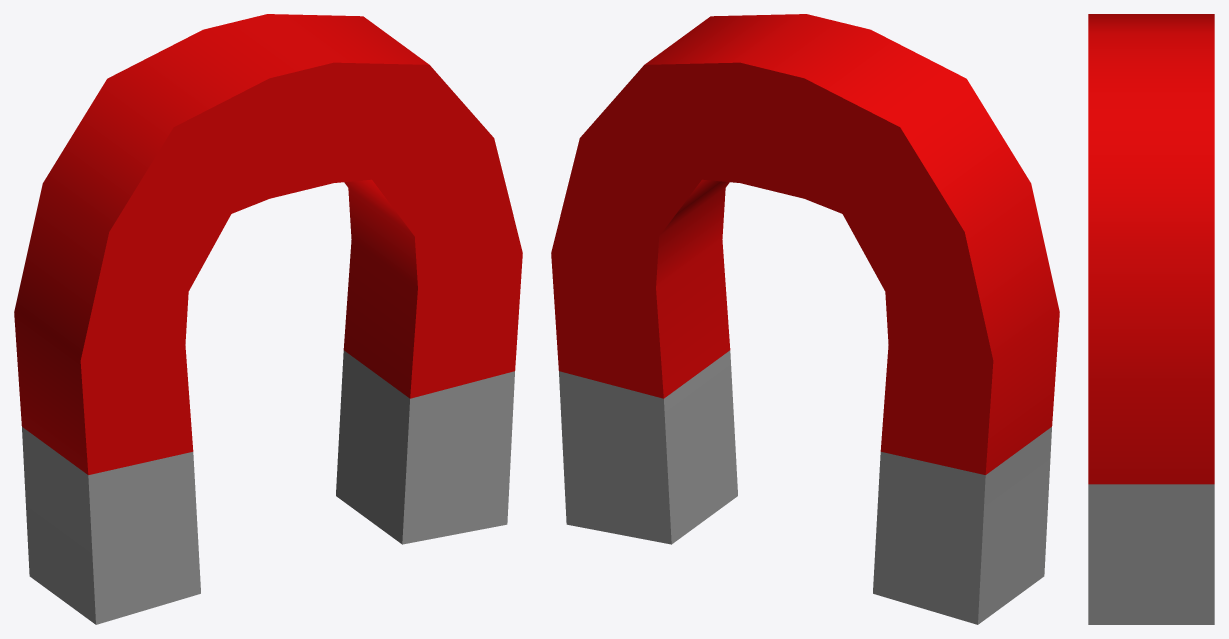
Rendered from magnet.fbx.
3 renders of one model, left to right at view 1: azimuth 30°, elevation 25°; view 2: azimuth 150°, elevation 25°; view 3: azimuth 270°, elevation 25°, orthographic. The views are drawn at different scales.
Visible parts, largest first — view 1: Cube.001; view 2: Cube.001; view 3: Cube.001.
Part boxes in pixels (x1,y1,x2,y2): Cube.001: (14,14,522,624); Cube.001: (551,14,1059,624); Cube.001: (1088,14,1214,624).
Bounding box in the file's own units: 768 × 837 × 200.
